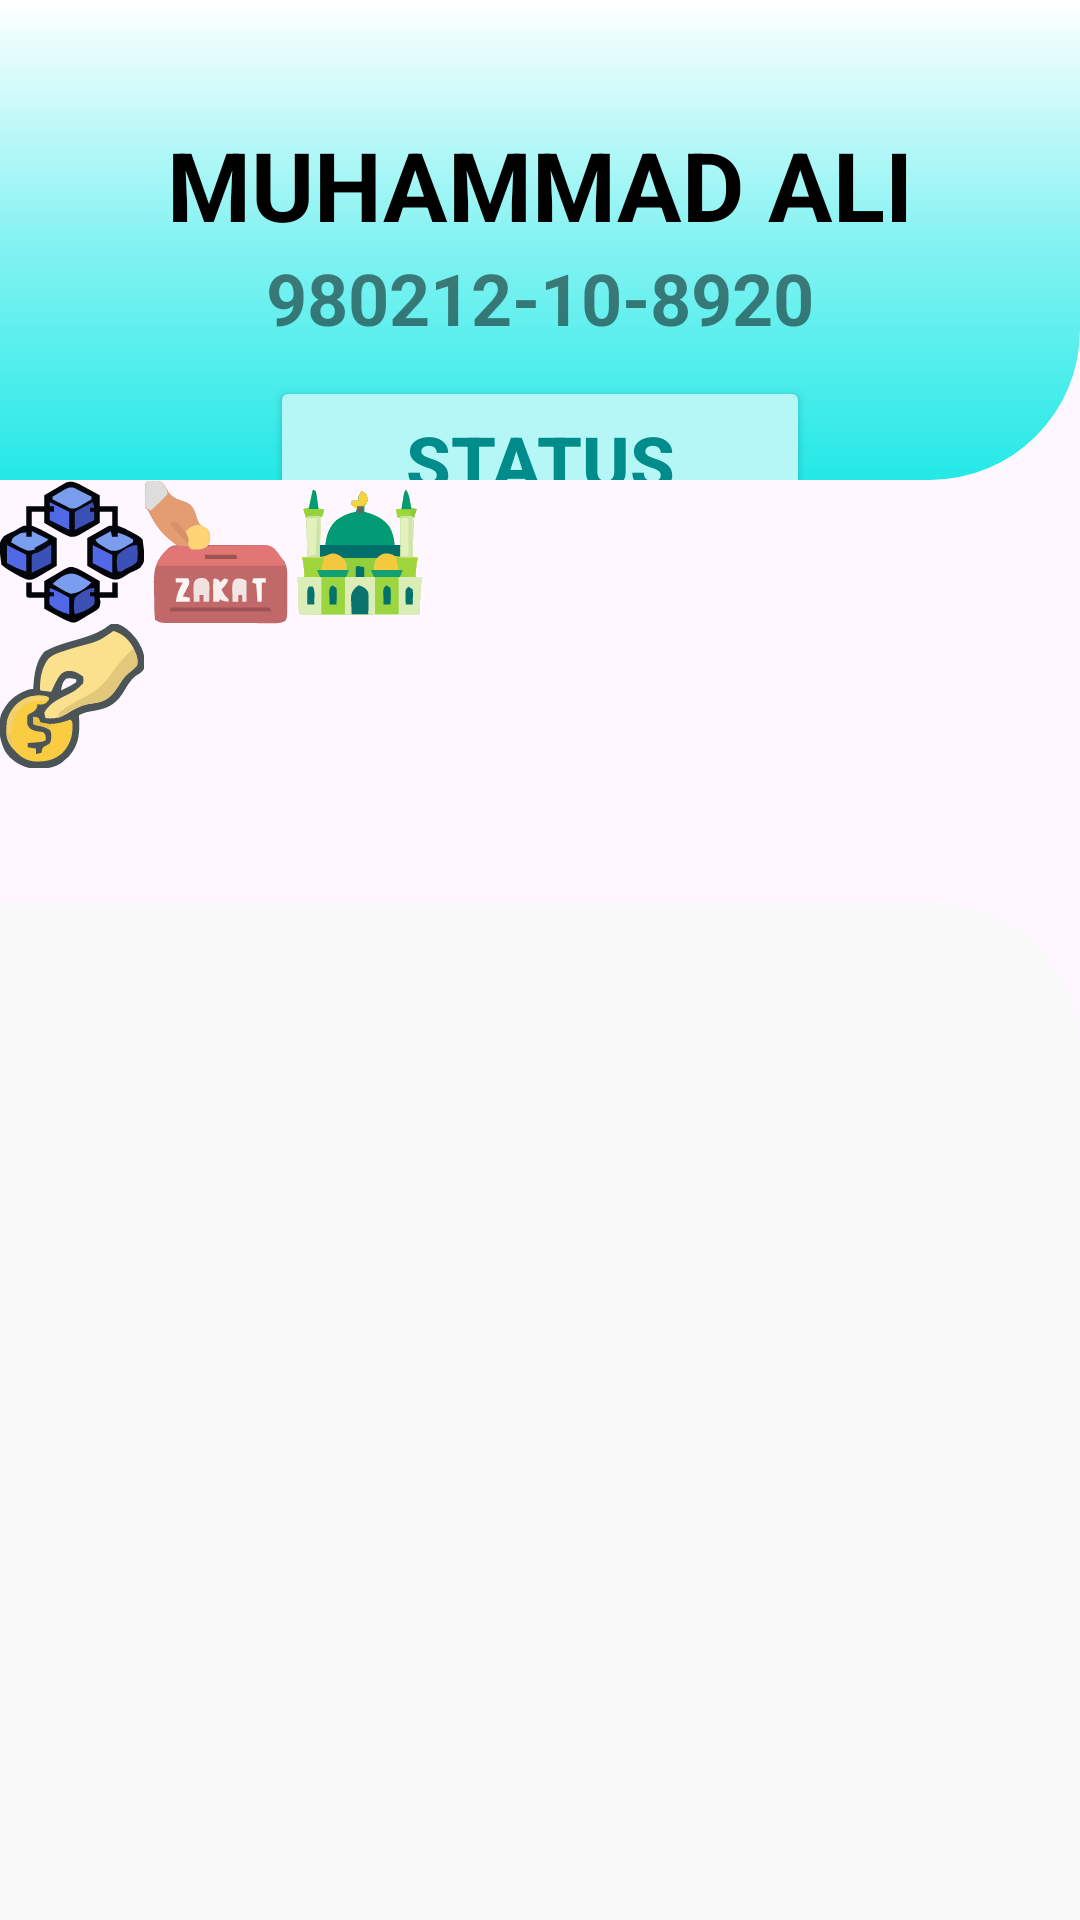

Screen size 1080 x 1920. Icon name, then its center in pixels as (x,y):
blockchain: (72,552)
donate: (72,696)
masjid: (360,552)
